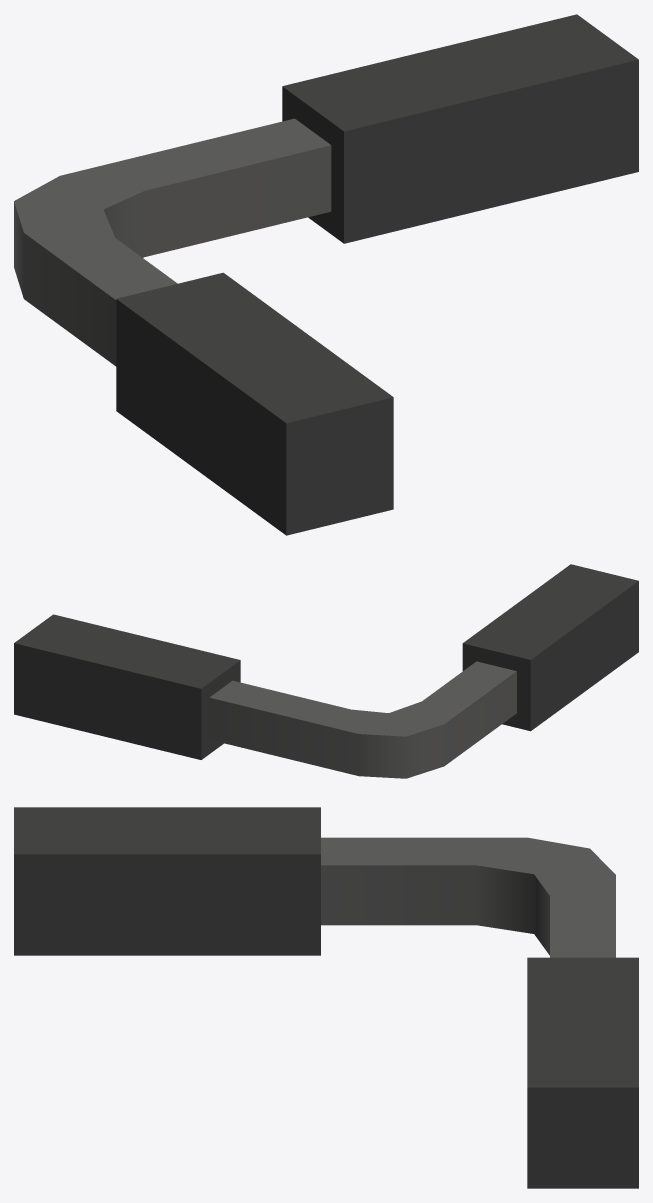
Rendered from Cable_A_2_1.glb.
3 renders of one model, top to bottom at view 1: azimuth 30°, elevation 25°; view 2: azimuth 150°, elevation 25°; view 3: azimuth 270°, elevation 25°, orthographic. The views are drawn at different scales.
Visible parts, largest first — view 1: Cable_A_2_1; view 2: Cable_A_2_1; view 3: Cable_A_2_1.
Boxes of the visible parts, x1,y1,x2,y2 form: Cable_A_2_1: (14, 14, 638, 535); Cable_A_2_1: (14, 564, 638, 778); Cable_A_2_1: (14, 807, 638, 1188).
Size of the model in its own units: 0.5835 by 0.0983 by 0.5497.
1 material, 1 textured.
